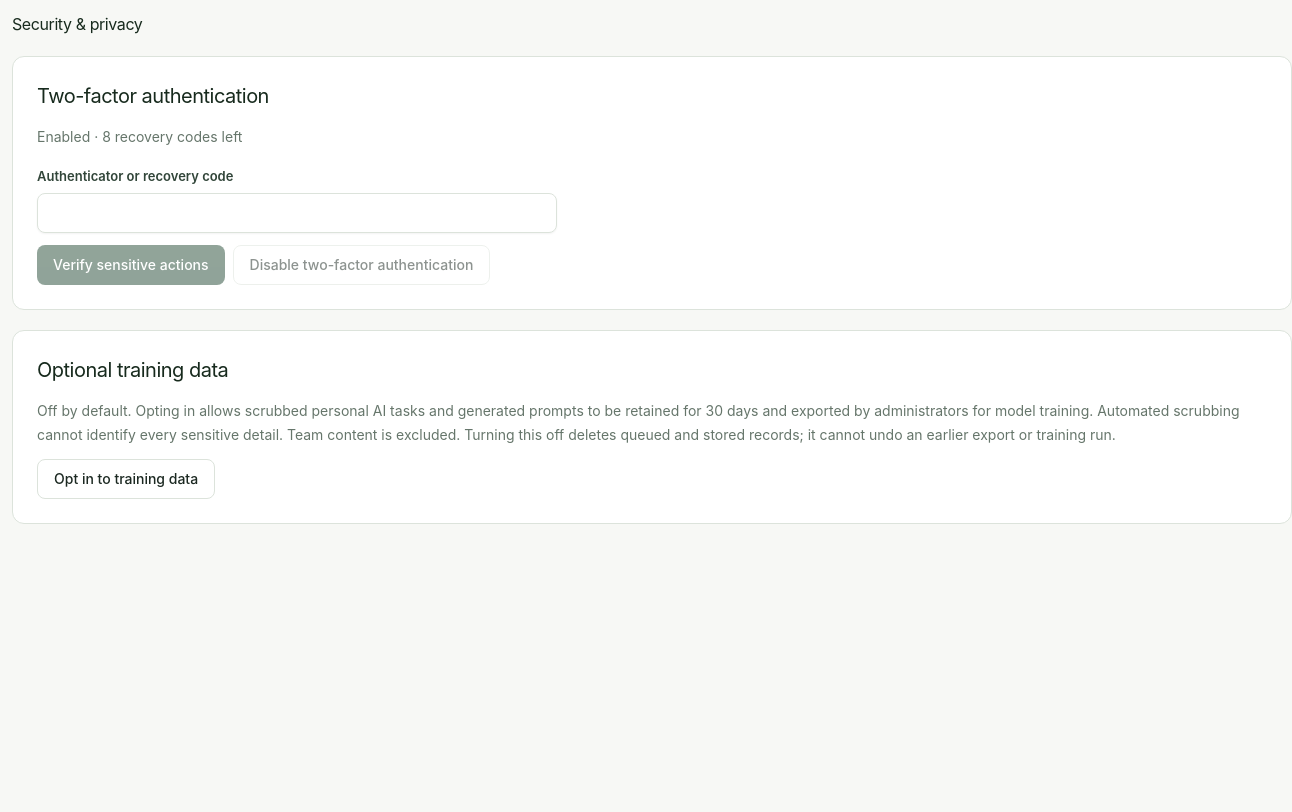
Test: security privacy controls › does not hide a failed MFA verification
The image size is (1292, 812).
Step 1. Type "123456" into the field labelled "Authenticator or recovery code" → (297, 213), box 37,193 -> 557,233
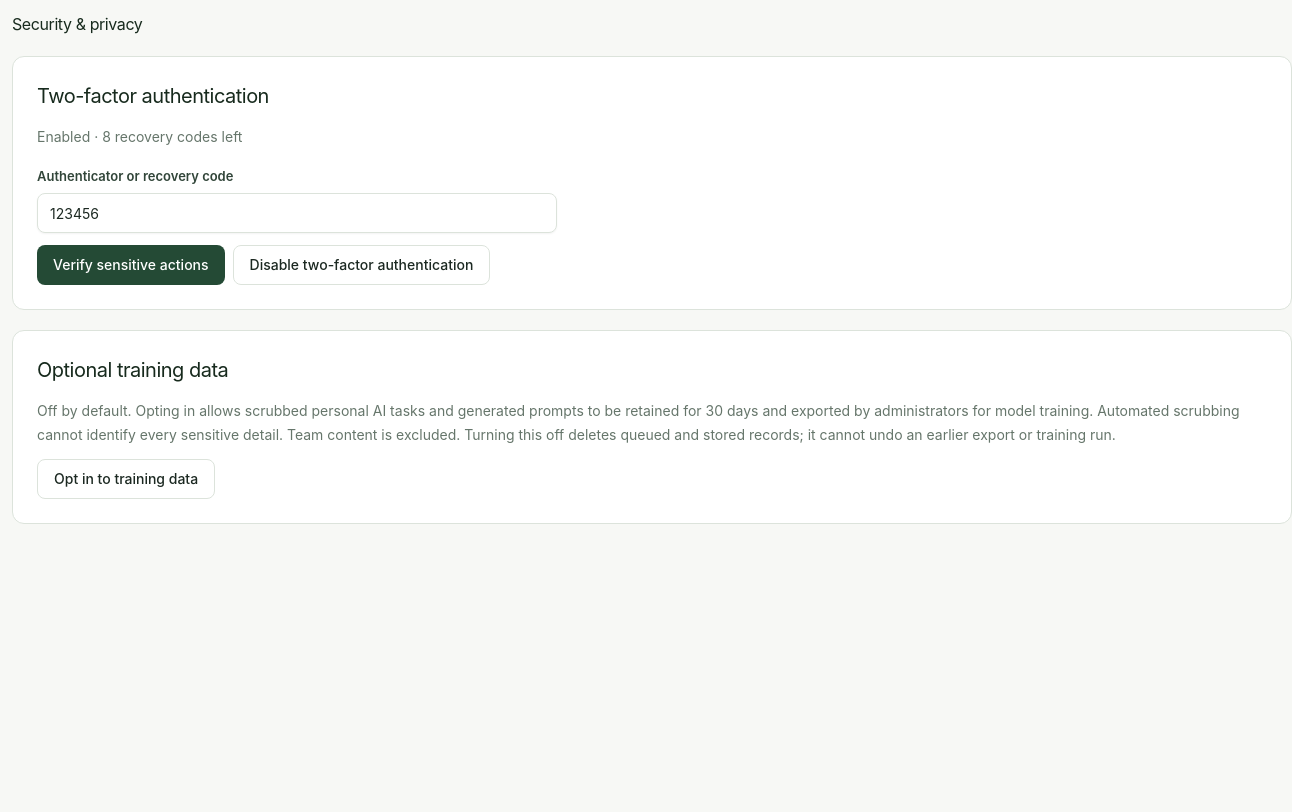
Step 2. Click the button "Verify sensitive actions" → (131, 265), box 37,245 -> 225,285
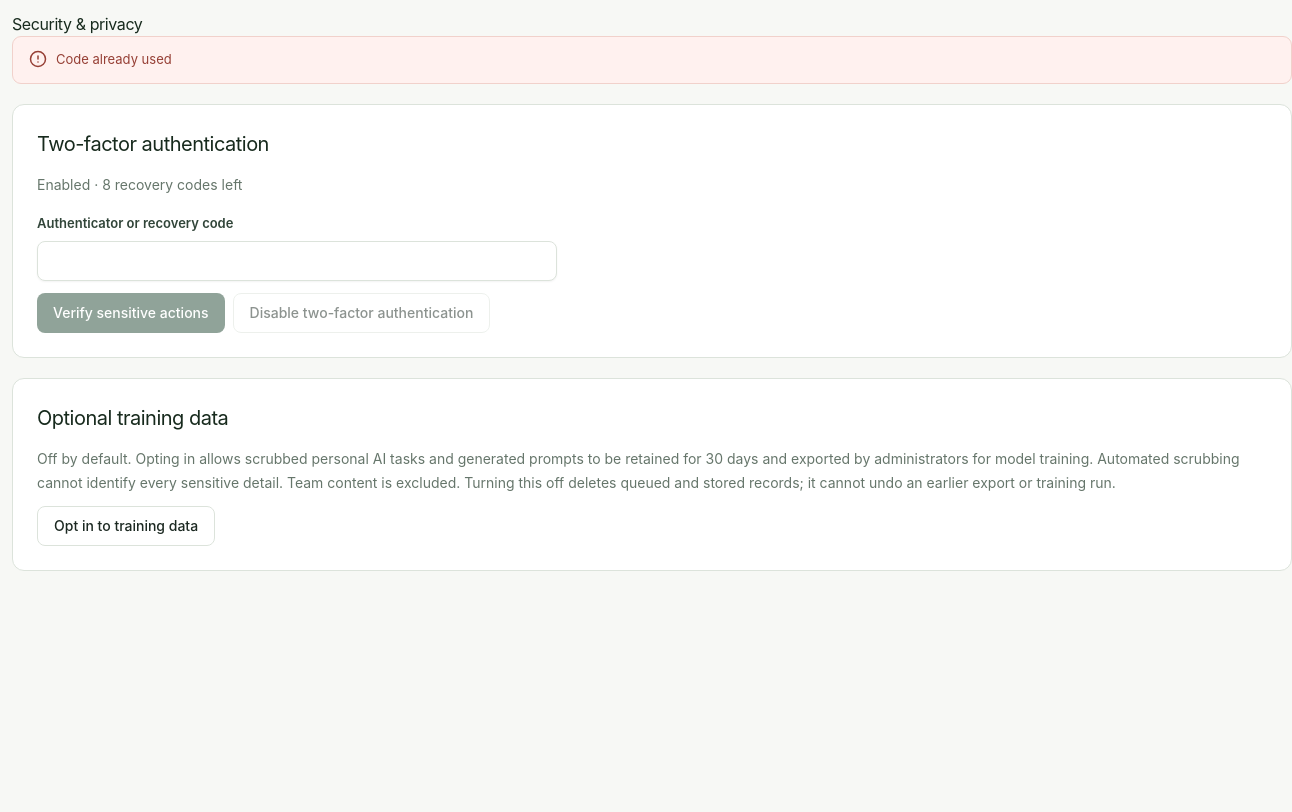
Now the message reads "Code already used", box 56,51 -> 172,67
